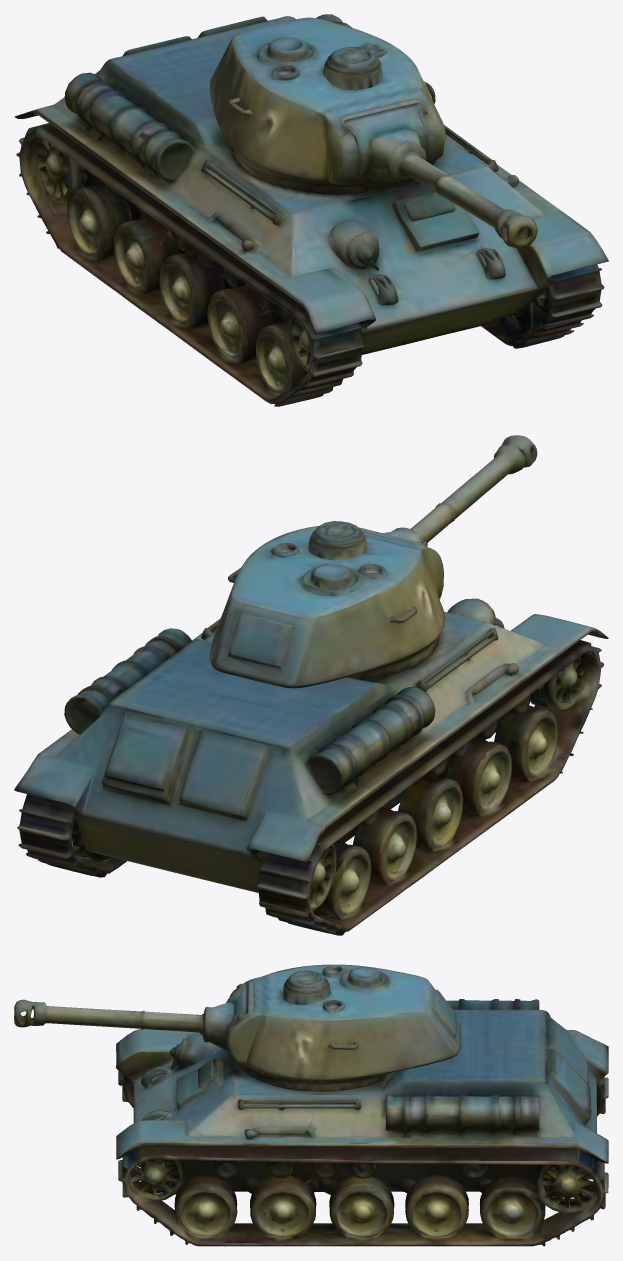
The model's file is kv1s_opt.glb.
The picture shows the model from 3 angles, top to bottom: view 1: azimuth 30°, elevation 25°; view 2: azimuth 150°, elevation 25°; view 3: azimuth 270°, elevation 25°; orthographic projection. The views are drawn at different scales.
Visible parts, largest first — view 1: node_0; view 2: node_0; view 3: node_0.
Part boxes in pixels (x1,y1,x2,y2): node_0: (14, 14, 608, 406); node_0: (14, 435, 608, 935); node_0: (14, 964, 608, 1246).
Size of the model in its own units: 0.5002 by 0.4293 by 1.07.
Materials: 1 (1 with a texture image).
